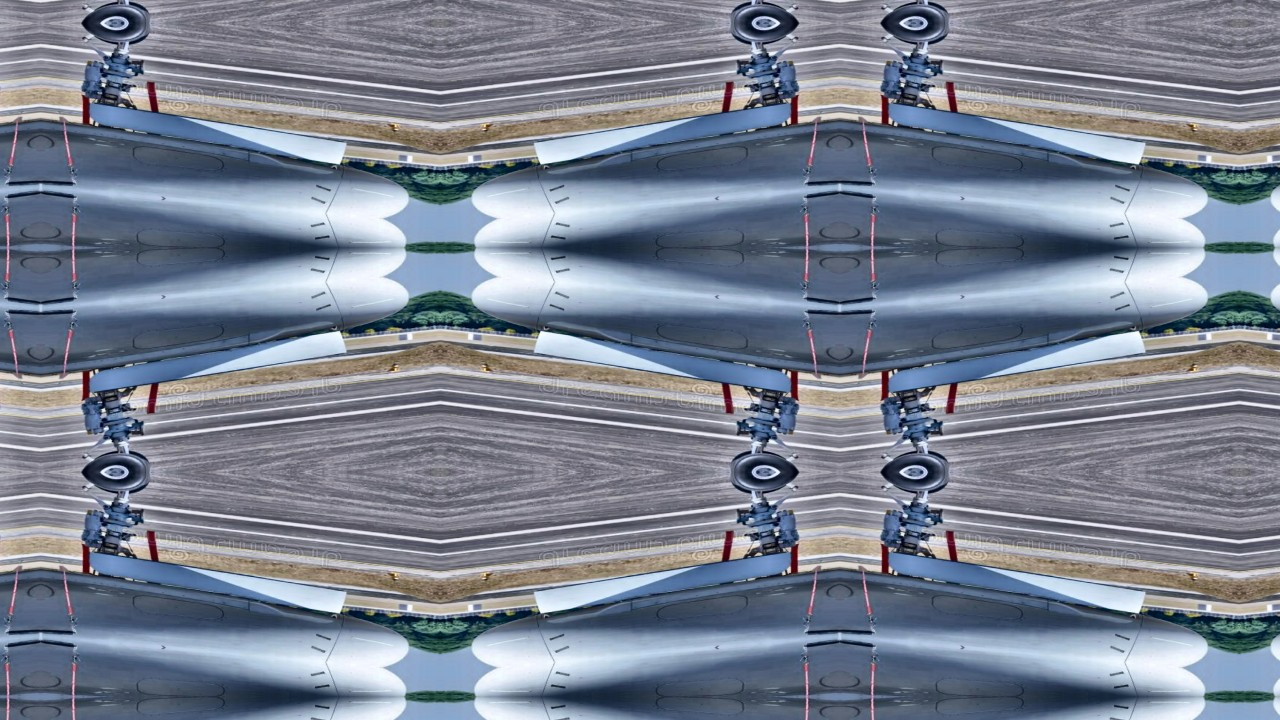wheel: (73, 22, 156, 49), (724, 22, 807, 49), (873, 22, 956, 49), (73, 472, 156, 499), (724, 472, 807, 499), (873, 472, 956, 499), (73, 446, 156, 472), (724, 446, 807, 472), (873, 446, 956, 472), (73, 0, 156, 22), (724, 0, 807, 22), (873, 0, 956, 22), (90, 25, 150, 48), (730, 25, 790, 48), (890, 25, 950, 48), (90, 447, 150, 470), (730, 447, 790, 470), (890, 447, 950, 470), (90, 475, 150, 498), (730, 475, 790, 498), (890, 475, 950, 498), (90, 0, 150, 20), (730, 0, 790, 20), (890, 0, 950, 20)
